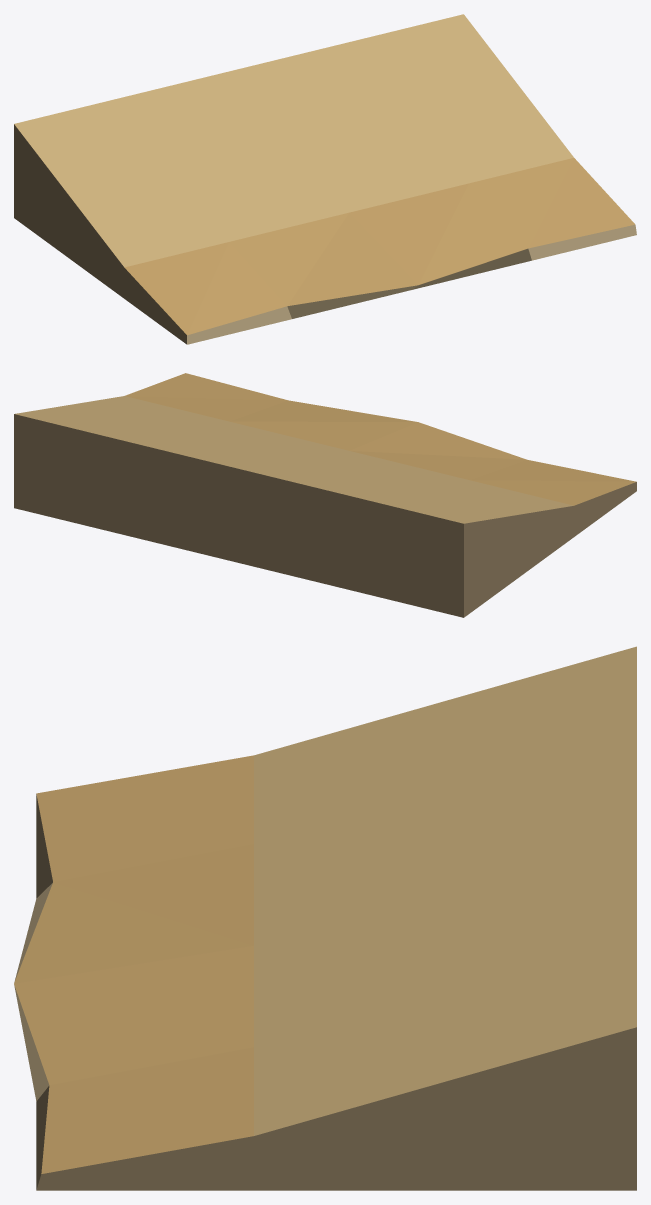
The model's file is shore_skirt.glb.
3 views of the same model, one above another, from view 1: azimuth 30°, elevation 25°; view 2: azimuth 150°, elevation 25°; view 3: azimuth 270°, elevation 25° (orthographic). The views are drawn at different scales.
Visible parts, largest first — view 1: shore_skirt_pc; view 2: shore_skirt_pc; view 3: shore_skirt_pc.
Part boxes in pixels (x1,y1,x2,y2): shore_skirt_pc: (14,14,636,344); shore_skirt_pc: (14,373,636,617); shore_skirt_pc: (14,646,636,1190).
Size of the model in its own units: 6 by 1.2 by 4.15.
